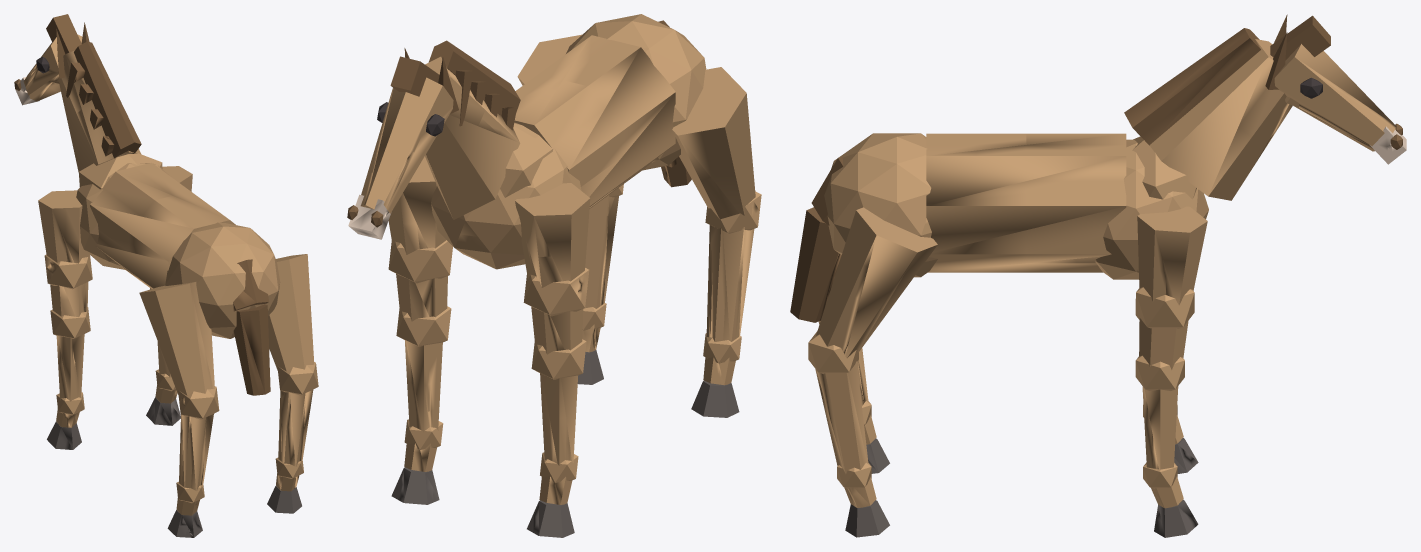
File: horse.glb
The picture shows the model from 3 angles, left to right: view 1: azimuth 30°, elevation 25°; view 2: azimuth 150°, elevation 25°; view 3: azimuth 270°, elevation 25°; orthographic projection. The views are drawn at different scales.
Visible parts, largest first — view 1: HorseBody; view 2: HorseBody; view 3: HorseBody.
Part boxes in pixels (<box>): HorseBody: <box>14,14,318,537</box>; HorseBody: <box>347,14,761,537</box>; HorseBody: <box>790,14,1406,537</box>.
Size of the model in its own units: 0.9204 by 2.17 by 2.53.
